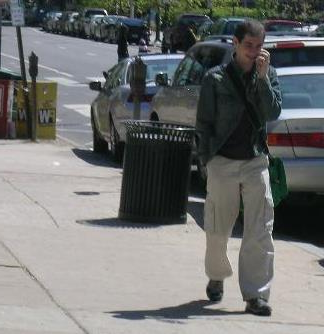pedestrian: (196, 21, 282, 317)
